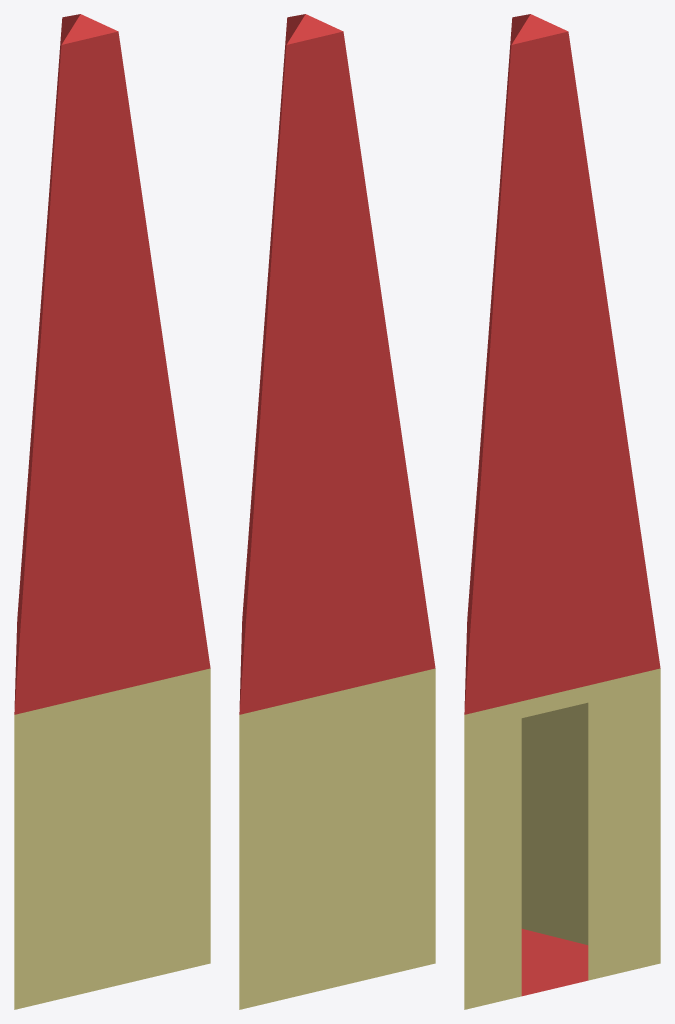
3 views of the same model, side by side, from view 1: azimuth 30°, elevation 25°; view 2: azimuth 150°, elevation 25°; view 3: azimuth 270°, elevation 25° (orthographic).
Parts seen in each view (by area): view 1: group_3, group_4; view 2: group_3, group_4; view 3: group_3, group_4, group_5.
Part boxes in pixels (left/top/right/bottom): group_3: left=14, top=14, right=210, bottom=714; group_4: left=14, top=668, right=210, bottom=1009; group_3: left=239, top=14, right=435, bottom=714; group_4: left=239, top=668, right=435, bottom=1009; group_3: left=464, top=14, right=660, bottom=714; group_4: left=464, top=668, right=660, bottom=1009; group_5: left=521, top=928, right=588, bottom=996.
Bounding box in the file's own units: 6.97 × 6.08 × 32.47.
